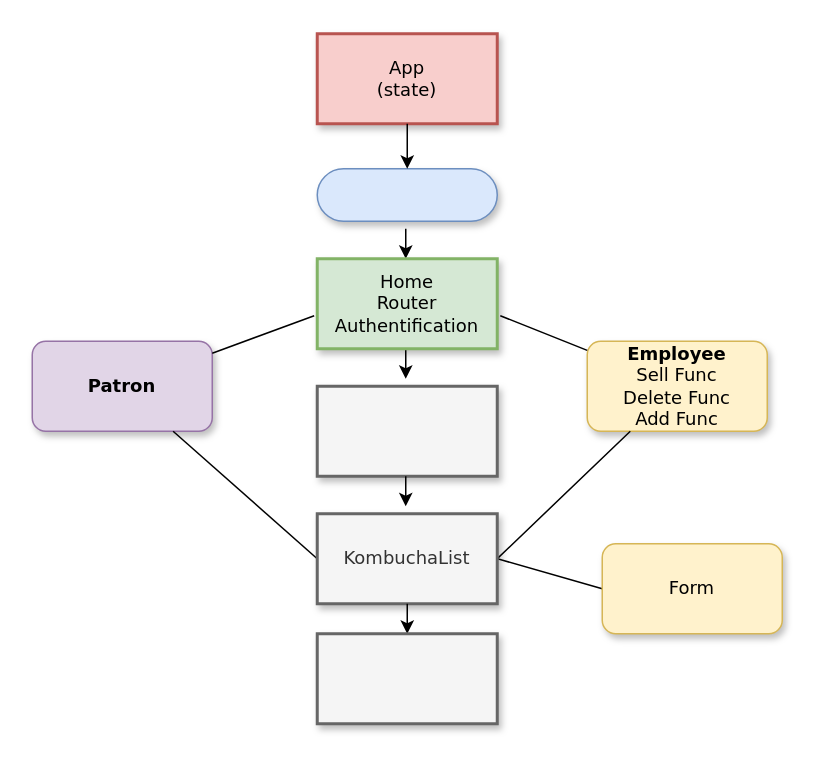
Image size: 818x761. Some labels were removed from this diagram. Here are the shapes that lost their labels. From the top down, the centre of each, then its label:
At point (408, 196): "Header".
At point (408, 433): "Kombucha".
At point (408, 680): "KombuchaDetails Selected func".
